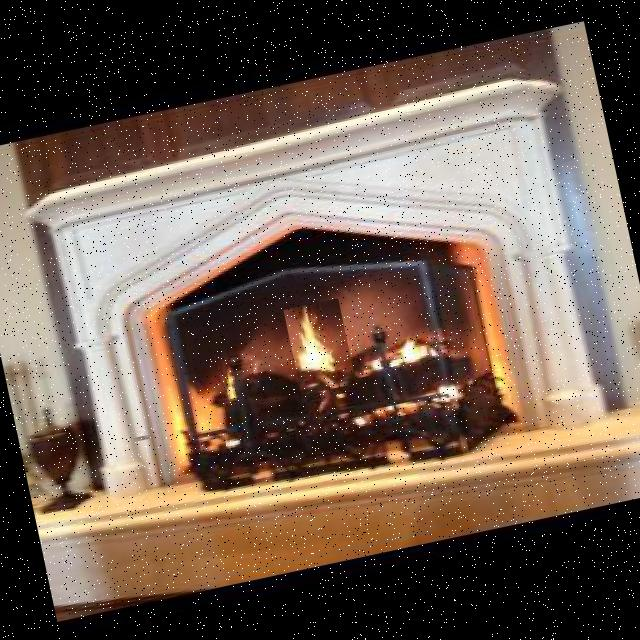fire: (283, 298, 356, 394)
